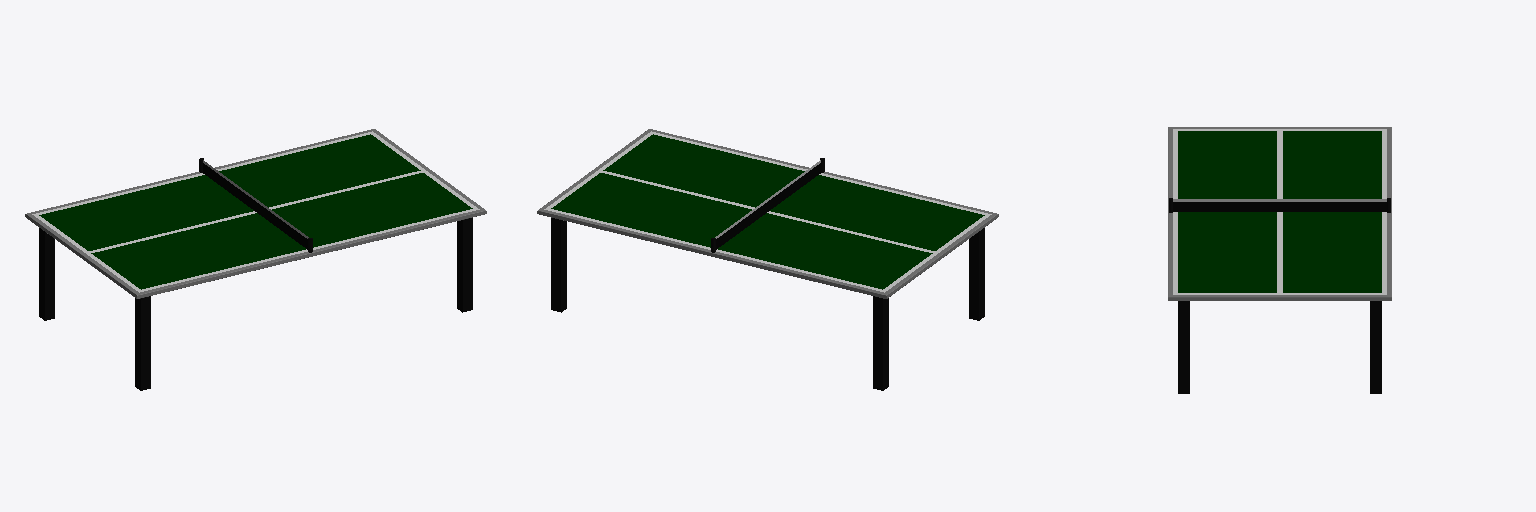
The model's file is table.obj.
3 renders of one model, left to right at view 1: azimuth 30°, elevation 25°; view 2: azimuth 150°, elevation 25°; view 3: azimuth 270°, elevation 25°, orthographic.
Parts seen in each view (by area): view 1: Box001_Untitled.003, Box005_Untitled.009, Box004_Untitled.016, Plane001_Untitled.015, Box002_Untitled.002; view 2: Box001_Untitled.003, Box002_Untitled.002, Box003_Untitled.004, Plane001_Untitled.015, Box005_Untitled.009; view 3: Box001_Untitled.003, Plane001_Untitled.015, Box004_Untitled.016, Box003_Untitled.004.
Part boxes in pixels (x1,y1,x2,y2): Box001_Untitled.003: (25,129,486,298); Box005_Untitled.009: (135,296,150,390); Box004_Untitled.016: (457,218,472,312); Plane001_Untitled.015: (203,160,308,249); Box002_Untitled.002: (39,228,54,320); Box001_Untitled.003: (537,129,998,298); Box002_Untitled.002: (873,296,888,390); Box003_Untitled.004: (551,218,566,312); Plane001_Untitled.015: (715,160,820,249); Box005_Untitled.009: (969,228,984,320); Box001_Untitled.003: (1168,127,1391,300); Plane001_Untitled.015: (1173,199,1386,211); Box004_Untitled.016: (1178,301,1189,393); Box003_Untitled.004: (1370,301,1381,393).
Size of the model in its own units: 2.74 by 0.8599 by 1.52.